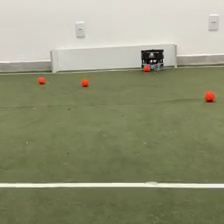ball: (203, 90, 215, 102), (37, 75, 46, 84), (80, 78, 89, 87), (143, 63, 151, 72)
goal: (50, 41, 178, 75)
robot: (141, 47, 165, 72)
